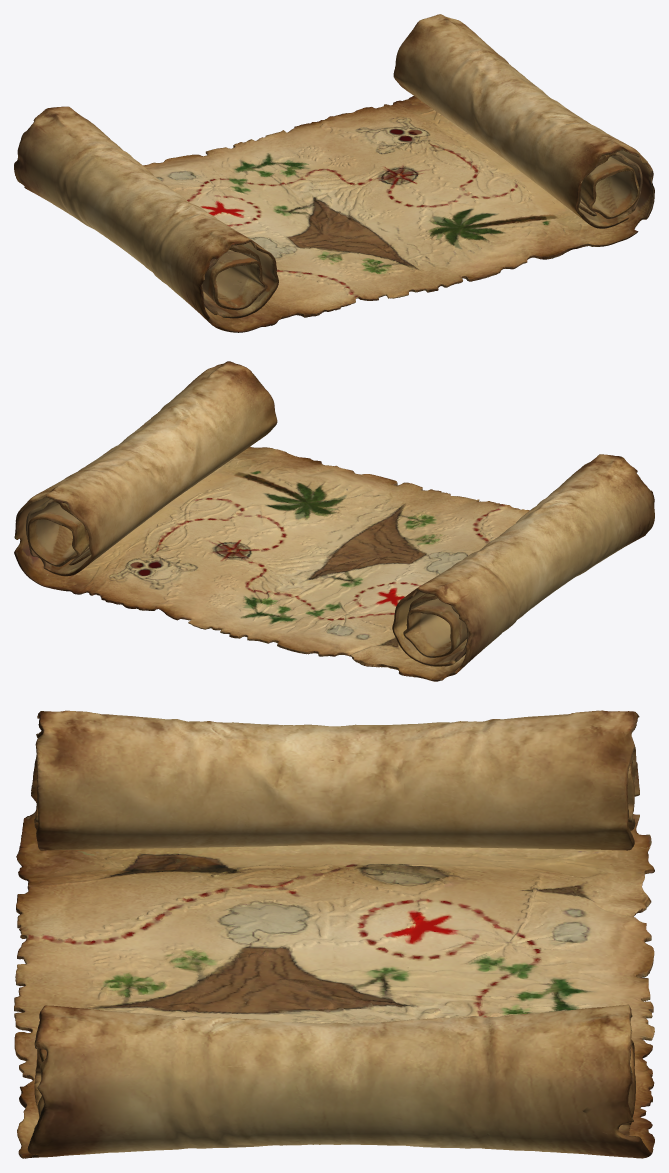
File: pergamino-pirata.glb
3 renders of one model, top to bottom at view 1: azimuth 30°, elevation 25°; view 2: azimuth 150°, elevation 25°; view 3: azimuth 270°, elevation 25°, orthographic. The views are drawn at different scales.
Bounding box in the file's own units: 1.9 × 0.359 × 1.44.
Materials: 1 (1 with a texture image).
